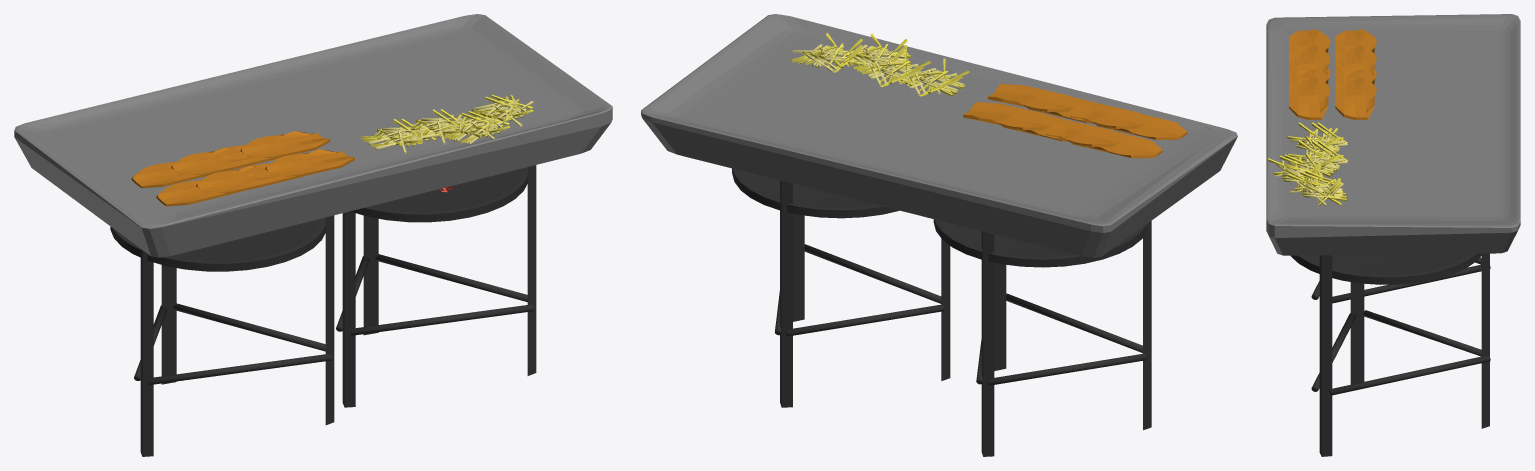
The model's file is comal_2.glb.
The picture shows the model from 3 angles, left to right: view 1: azimuth 30°, elevation 25°; view 2: azimuth 150°, elevation 25°; view 3: azimuth 270°, elevation 25°; orthographic projection. The views are drawn at different scales.
Visible parts, largest first — view 1: plancha, carne, Cylinder, Cylinder.005, papas, Cube.001, Cube.004, Cube.005, Cube.002, Cube.006, Cube.003, Cylinder.003 (+3 smaller); view 2: plancha, carne, papas, Cylinder, Cylinder.005, Cube.003, Cube.006, Cube.001, Cube.002, Cube.004, Cube.005, Cylinder.001 (+3 smaller); view 3: plancha, carne, Cylinder.005, papas, Cube.005, Cube.006, Cube.004, Cylinder.007, Cylinder.006, Cylinder.002, Cylinder.004.
Boxes of the visible parts, bbox=[...] form: plancha: bbox=[14, 14, 612, 257]; carne: bbox=[131, 131, 354, 206]; Cylinder: bbox=[110, 217, 325, 271]; Cylinder.005: bbox=[350, 167, 527, 222]; papas: bbox=[360, 94, 533, 154]; Cube.001: bbox=[140, 249, 153, 456]; Cube.004: bbox=[342, 211, 355, 407]; Cube.005: bbox=[527, 165, 536, 375]; Cube.002: bbox=[325, 215, 334, 425]; Cube.006: bbox=[363, 215, 378, 335]; Cube.003: bbox=[161, 265, 176, 384]; Cylinder.003: bbox=[148, 353, 331, 384]; plancha: bbox=[641, 14, 1237, 257]; carne: bbox=[963, 84, 1187, 158]; papas: bbox=[790, 33, 969, 96]; Cylinder: bbox=[933, 219, 1145, 267]; Cylinder.005: bbox=[732, 168, 899, 218]; Cube.003: bbox=[981, 231, 994, 456]; Cube.006: bbox=[780, 180, 792, 407]; Cube.001: bbox=[1143, 221, 1151, 430]; Cube.002: bbox=[994, 262, 1006, 370]; Cube.004: bbox=[941, 239, 950, 380]; Cube.005: bbox=[793, 213, 804, 321]; Cylinder.001: bbox=[987, 353, 1146, 385]; plancha: bbox=[1266, 14, 1520, 255]; carne: bbox=[1289, 29, 1376, 119]; Cylinder.005: bbox=[1290, 253, 1482, 284]; papas: bbox=[1268, 122, 1348, 206]; Cube.005: bbox=[1319, 255, 1332, 456]; Cube.006: bbox=[1481, 253, 1489, 428]; Cube.004: bbox=[1350, 282, 1364, 384]; Cylinder.007: bbox=[1328, 355, 1490, 395]; Cylinder.006: bbox=[1363, 310, 1481, 356]; Cylinder.002: bbox=[1332, 264, 1490, 303]; Cylinder.004: bbox=[1311, 313, 1356, 391].
Bounding box in the file's own units: 5.29 × 3.05 × 2.65.
